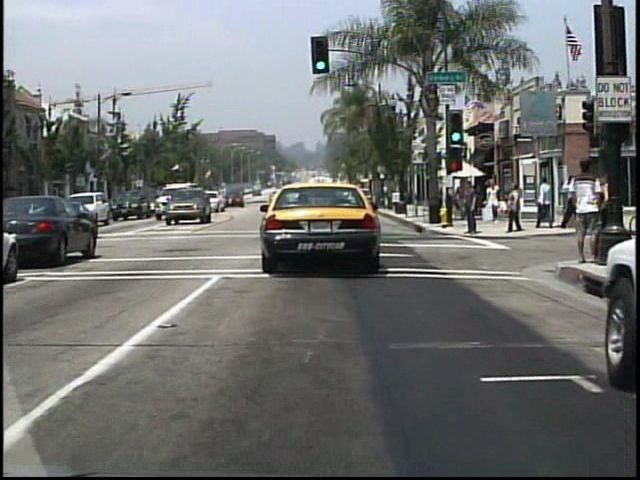person: (570, 154, 604, 263), (462, 182, 480, 238), (538, 174, 555, 230), (508, 182, 527, 232), (455, 179, 474, 226), (488, 179, 504, 225)
